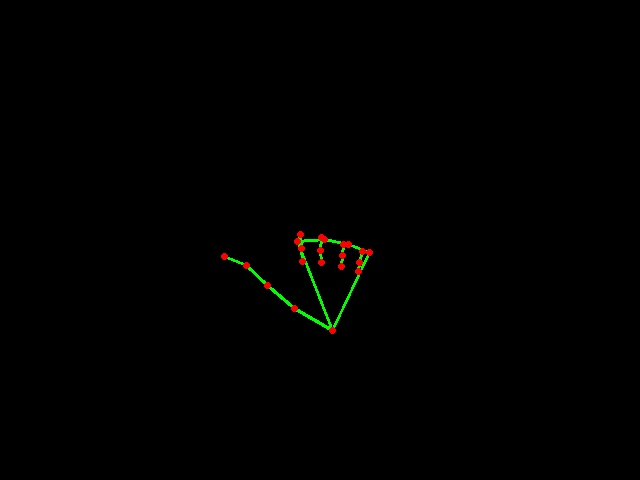right: (206, 218, 384, 345)
